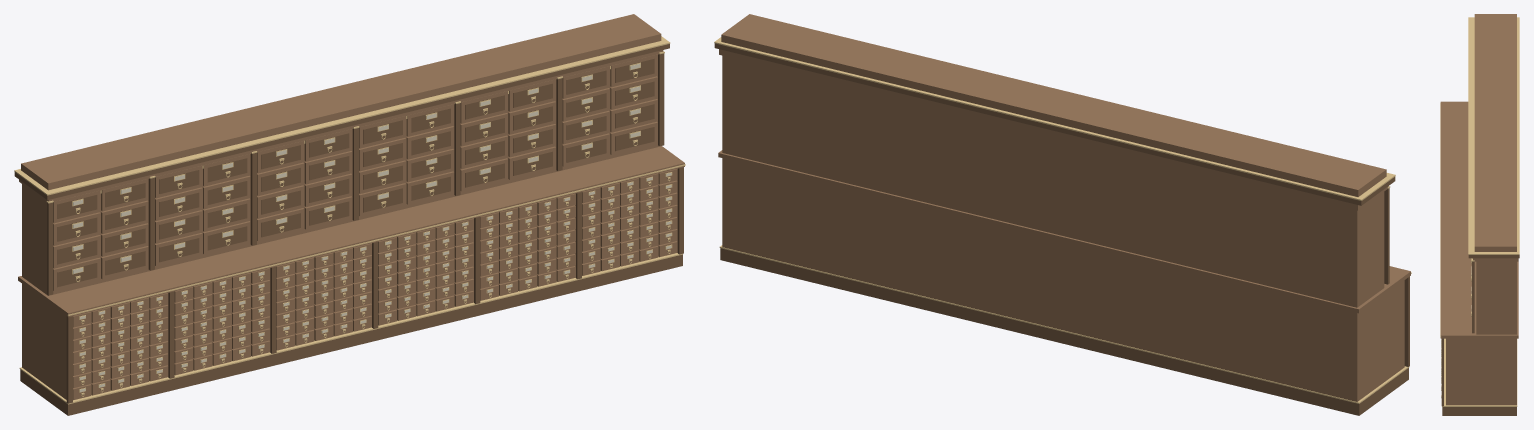
The model's file is arch_catalog.glb.
The picture shows the model from 3 angles, left to right: view 1: azimuth 30°, elevation 25°; view 2: azimuth 150°, elevation 25°; view 3: azimuth 270°, elevation 25°; orthographic projection. The views are drawn at different scales.
Parts seen in each view (by area): view 1: arch_catalog; view 2: arch_catalog; view 3: arch_catalog.
Part boxes in pixels (<box>): arch_catalog: <box>14,14,685,415</box>; arch_catalog: <box>714,14,1411,415</box>; arch_catalog: <box>1440,14,1519,415</box>.
Bounding box in the file's own units: 6.61 × 2.2 × 0.9385.
